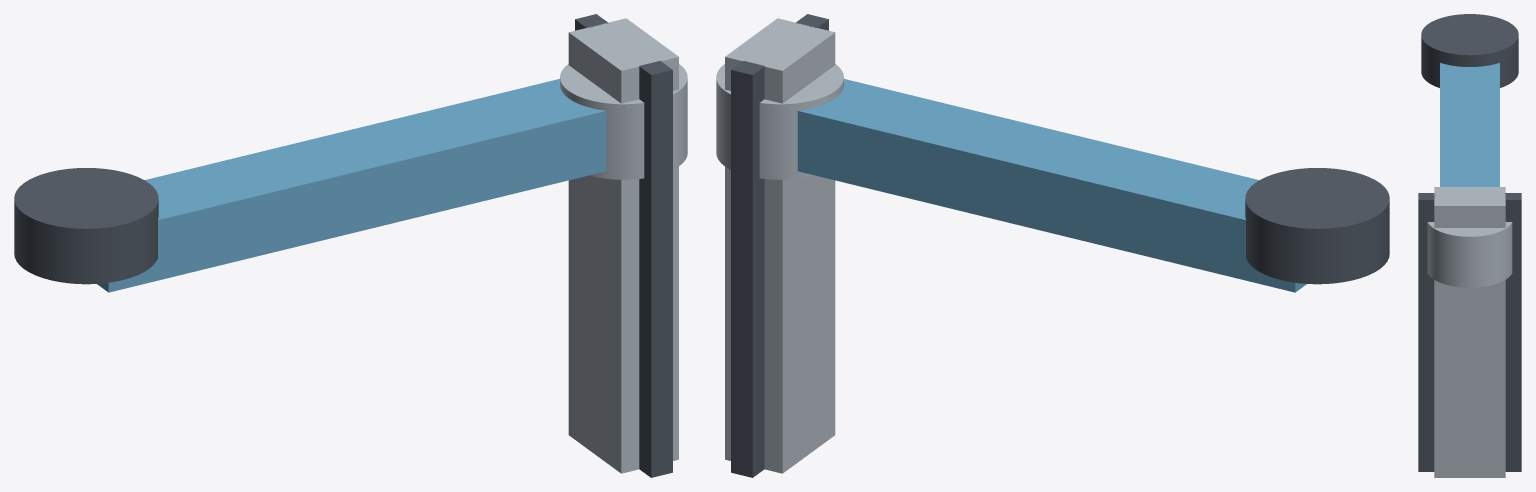
Rendered from forearm.glb.
3 renders of one model, left to right at view 1: azimuth 30°, elevation 25°; view 2: azimuth 150°, elevation 25°; view 3: azimuth 270°, elevation 25°, orthographic. The views are drawn at different scales.
Visible parts, largest first — view 1: dummy_forearm_0, dummy_forearm_3, dummy_forearm_1, dummy_forearm_4, dummy_forearm_2; view 2: dummy_forearm_0, dummy_forearm_3, dummy_forearm_1, dummy_forearm_5, dummy_forearm_2; view 3: dummy_forearm_3, dummy_forearm_0, dummy_forearm_1, dummy_forearm_2, dummy_forearm_4, dummy_forearm_5.
Part boxes in pixels (x1,y1,x2,y2): dummy_forearm_0: (97, 79, 606, 292); dummy_forearm_3: (568, 18, 678, 473); dummy_forearm_1: (14, 168, 158, 284); dummy_forearm_4: (639, 61, 672, 477); dummy_forearm_2: (560, 64, 687, 179); dummy_forearm_0: (797, 79, 1306, 292); dummy_forearm_3: (725, 18, 835, 473); dummy_forearm_1: (1245, 168, 1389, 284); dummy_forearm_5: (731, 61, 764, 477); dummy_forearm_2: (716, 64, 843, 179); dummy_forearm_3: (1434, 187, 1505, 477); dummy_forearm_0: (1440, 63, 1499, 186); dummy_forearm_1: (1421, 14, 1518, 87); dummy_forearm_2: (1427, 222, 1512, 287); dummy_forearm_4: (1418, 193, 1435, 471); dummy_forearm_5: (1505, 193, 1521, 471).
Bounding box in the file's own units: 0.2724 × 0.16 × 0.055.
